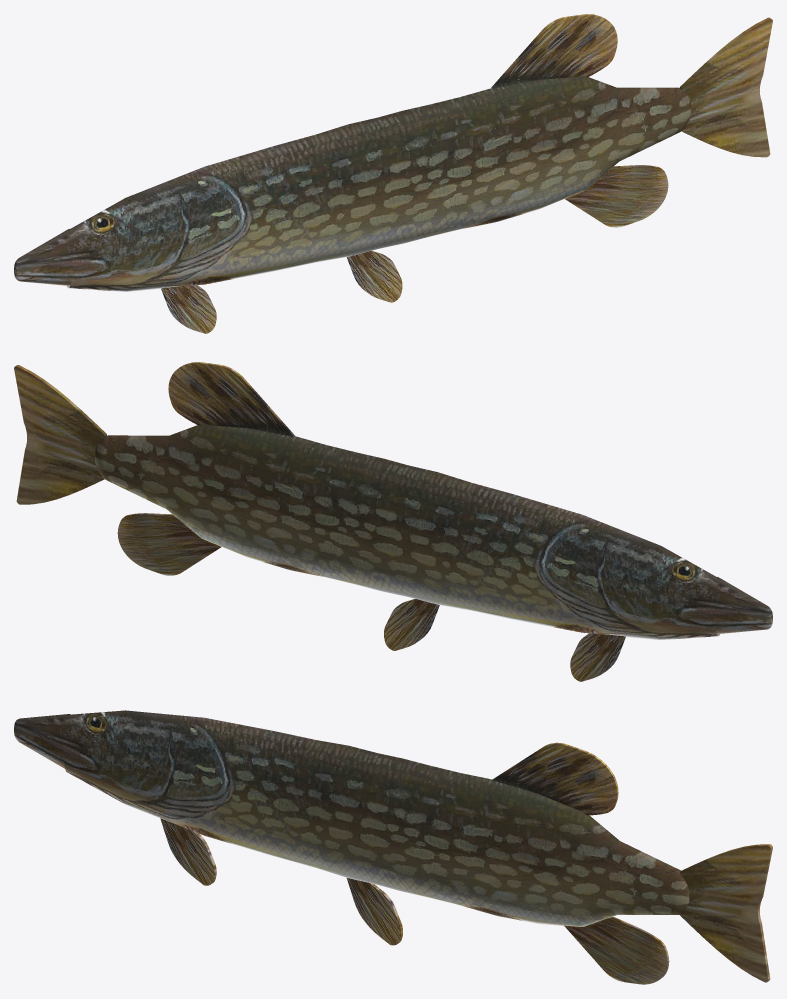
The model's file is norhthan pike.fbx.
3 views of the same model, one above another, from view 1: azimuth 30°, elevation 25°; view 2: azimuth 150°, elevation 25°; view 3: azimuth 330°, elevation 25° (orthographic).
Parts seen in each view (by area): view 1: Line001, Line002, Line009, Line010, Line012, Line011; view 2: Line001, Line002, Line009, Line010, Line012, Line011; view 3: Line001, Line002, Line009, Line010, Line012, Line011.
Part boxes in pixels (x1=…): Line001: x1=14, y1=76, x2=691, y2=291; Line002: x1=680, y1=17, x2=772, y2=157; Line009: x1=491, y1=14, x2=617, y2=88; Line010: x1=565, y1=165, x2=668, y2=227; Line012: x1=346, y1=251, x2=402, y2=302; Line011: x1=161, y1=285, x2=216, y2=333; Line001: x1=94, y1=424, x2=772, y2=639; Line002: x1=14, y1=365, x2=106, y2=504; Line009: x1=168, y1=362, x2=294, y2=436; Line010: x1=117, y1=513, x2=221, y2=575; Line012: x1=384, y1=599, x2=439, y2=650; Line011: x1=570, y1=633, x2=625, y2=681; Line001: x1=14, y1=710, x2=689, y2=926; Line002: x1=679, y1=844, x2=772, y2=982; Line009: x1=492, y1=742, x2=618, y2=815; Line010: x1=564, y1=917, x2=669, y2=984; Line012: x1=346, y1=878, x2=402, y2=945; Line011: x1=160, y1=818, x2=216, y2=885.
Size of the model in its own units: 1313 by 401 by 74.06.
Materials: 4 (4 with a texture image).
